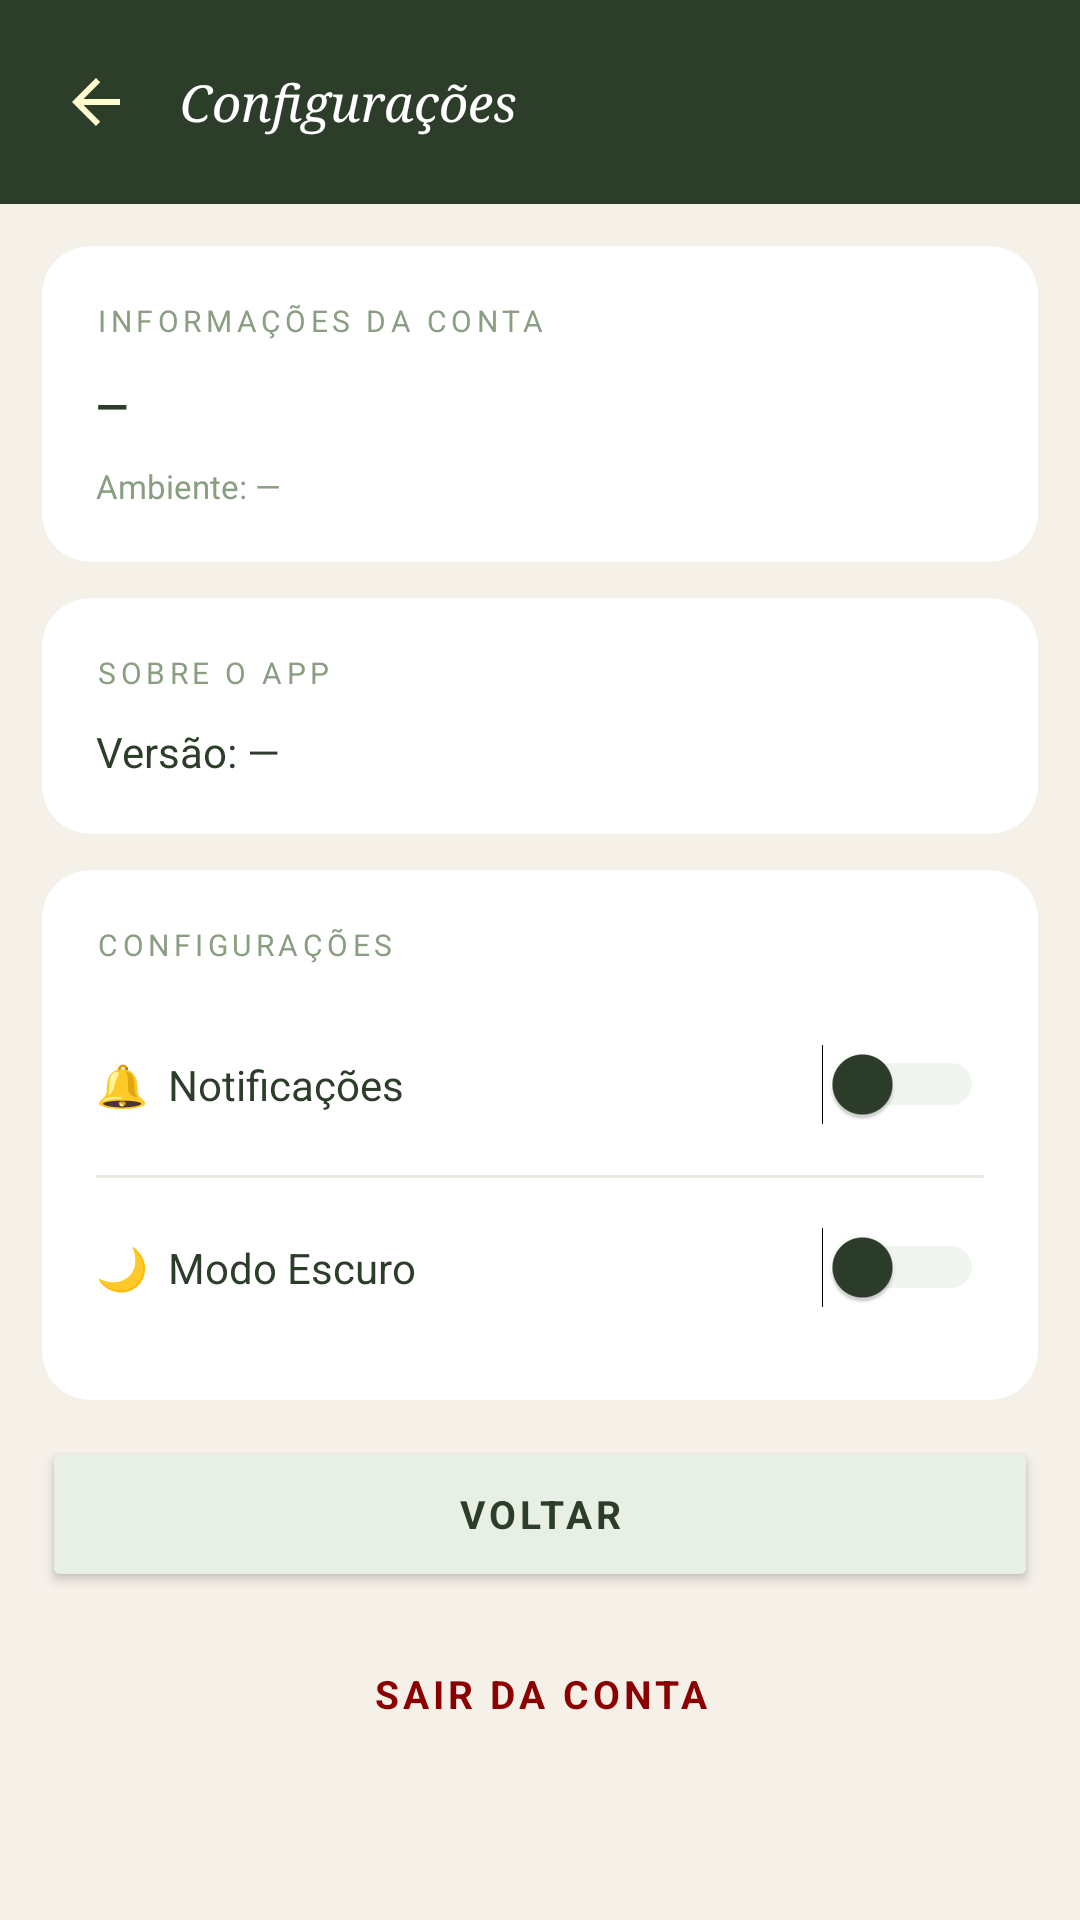

Point at icon controls on the screen. Image size 1080×1920, points as point (x, y).
Voltar: point (96, 102)
